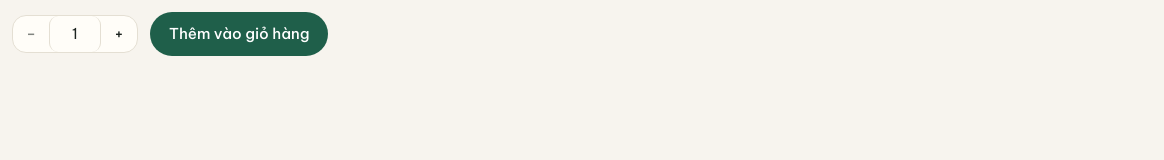
Test: AddToCart › chưa chọn đủ phân loại thì nhắc chọn
What coordinates should you click on to do the following:
click the button "Thêm vào giỏ hàng"
I would click on:
 (239, 34)
Its box is [150,12,328,56].
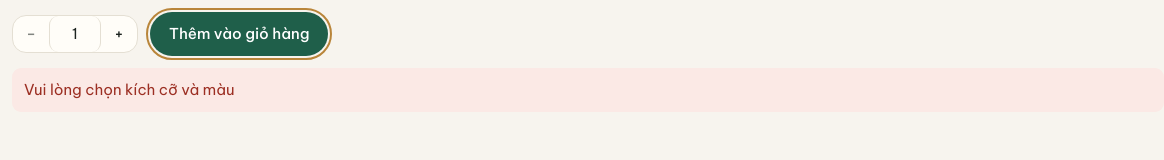
Result: the message reads "Vui lòng chọn kích cỡ và màu" at [24,80,234,99]
